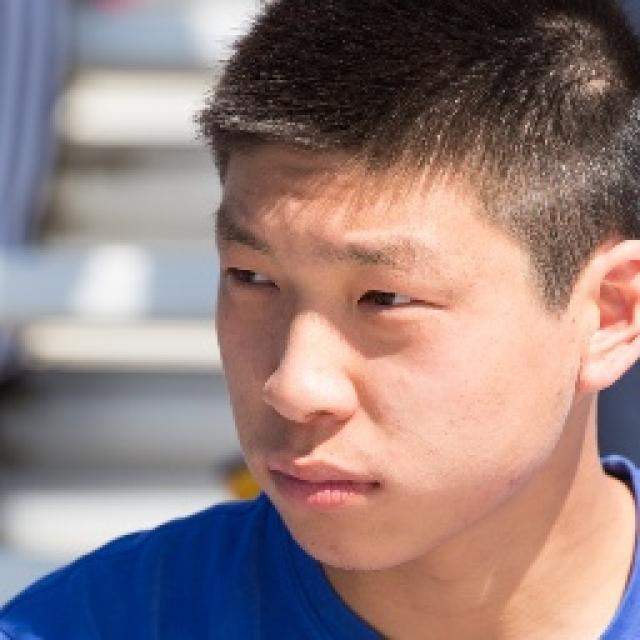earlobe: (573, 353, 627, 399)
eye: (353, 282, 438, 326), (226, 264, 276, 298)
nose: (271, 414, 351, 449)
wholeear: (577, 237, 640, 394)
